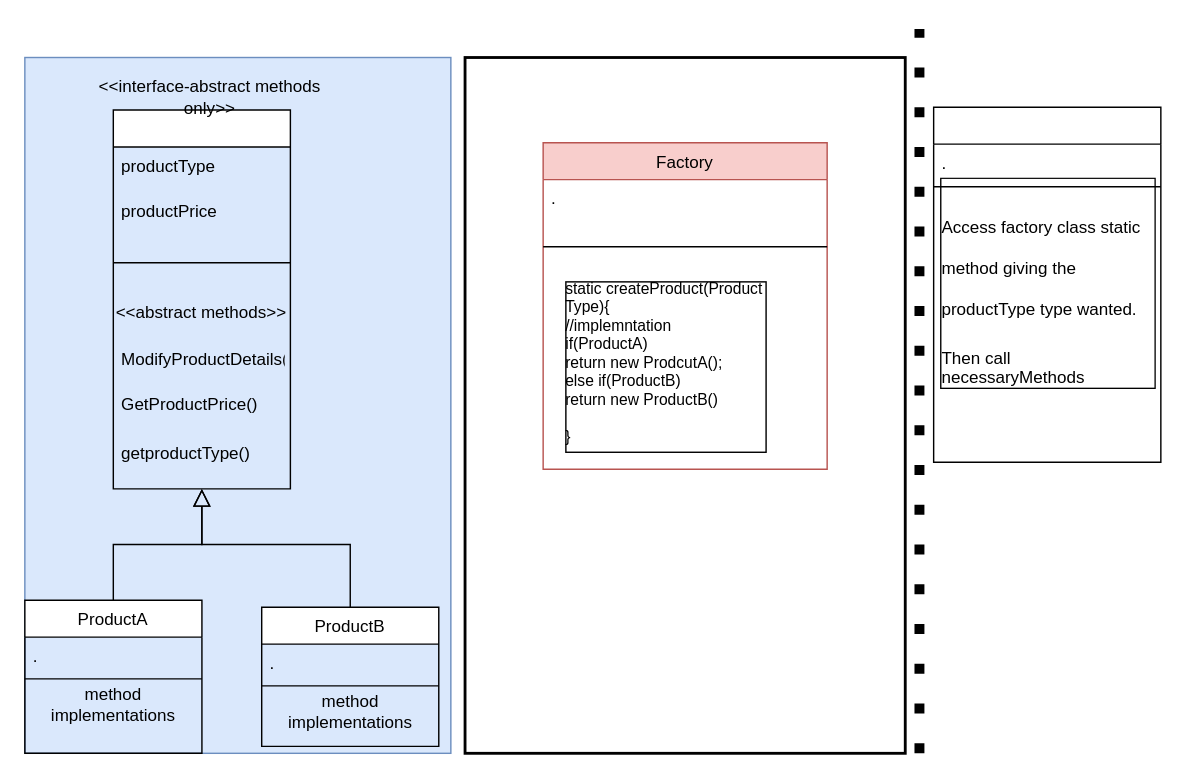
Some shapes in this 1186 by 784 pixel diagram are drawn without their labels. The box of each missing label's shape, as (x1, y1, x2, y2) in pixels:
Clent: (932, 106, 1161, 462)
IProduct: (112, 109, 290, 489)
